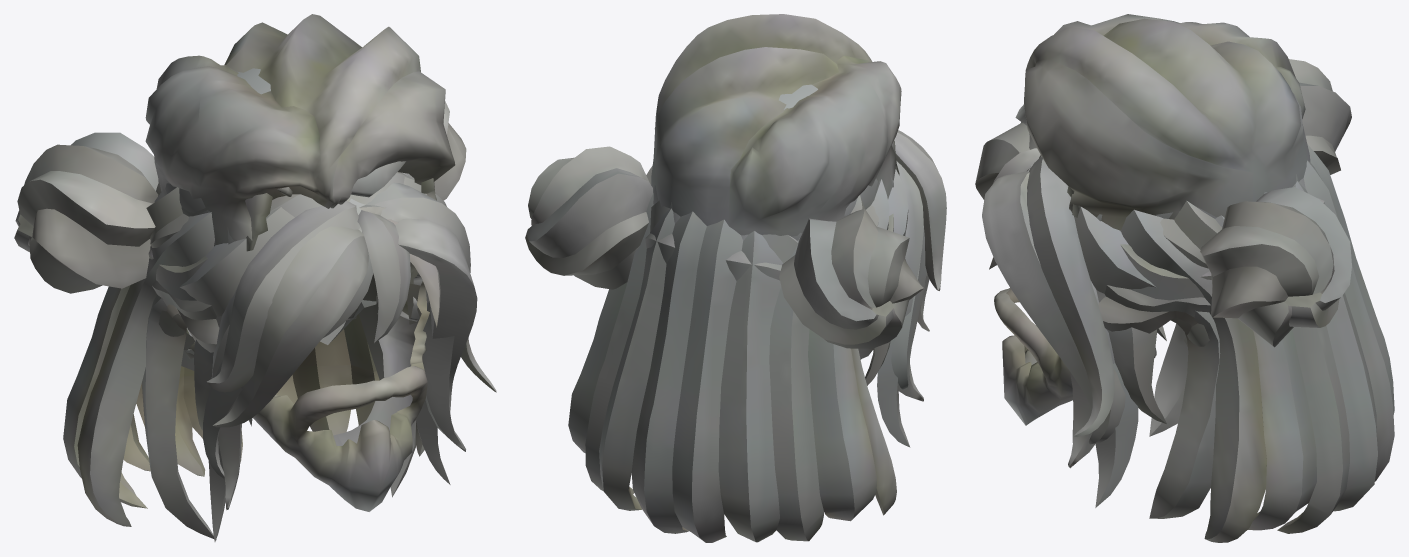
Rendered from hair.glb.
The picture shows the model from 3 angles, left to right: view 1: azimuth 30°, elevation 25°; view 2: azimuth 150°, elevation 25°; view 3: azimuth 270°, elevation 25°; orthographic projection. The views are drawn at different scales.
Visible parts, largest first — view 1: Hair_Long, Hair_SimpleParted, Hair_Buns, Hair_Beard, Hair_Buzzed; view 2: Hair_Long, Hair_SimpleParted, Hair_Buns, Hair_Buzzed; view 3: Hair_Long, Hair_SimpleParted, Hair_Buns, Hair_Beard.
Part boxes in pixels (x1=…): Hair_Long: x1=63, y1=173, x2=496, y2=539; Hair_SimpleParted: x1=145, y1=14, x2=455, y2=244; Hair_Buns: x1=14, y1=101, x2=466, y2=541; Hair_Beard: x1=253, y1=262, x2=429, y2=511; Hair_Buzzed: x1=161, y1=68, x2=436, y2=251; Hair_Long: x1=568, y1=130, x2=946, y2=542; Hair_SimpleParted: x1=651, y1=14, x2=901, y2=236; Hair_Buns: x1=525, y1=146, x2=923, y2=447; Hair_Buzzed: x1=653, y1=84, x2=899, y2=240; Hair_Long: x1=975, y1=122, x2=1394, y2=542; Hair_SimpleParted: x1=1024, y1=14, x2=1310, y2=230; Hair_Buns: x1=989, y1=59, x2=1351, y2=507; Hair_Beard: x1=994, y1=288, x2=1156, y2=425.
Size of the model in its own units: 0.3015 by 0.3389 by 0.2705.
Materials: 2 (2 with a texture image).
